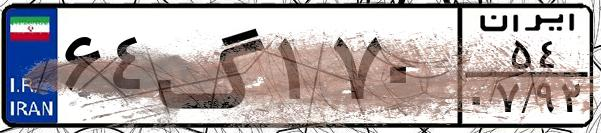0: (385, 28, 445, 110), (470, 70, 495, 125)
1: (270, 28, 330, 110)
2: (560, 70, 590, 125)
4: (110, 28, 156, 98), (537, 27, 568, 80)
5: (508, 27, 537, 80)
6: (57, 26, 110, 100)
7: (330, 28, 385, 110), (495, 70, 520, 125)
9: (535, 70, 560, 125)
گ: (156, 12, 270, 120)
